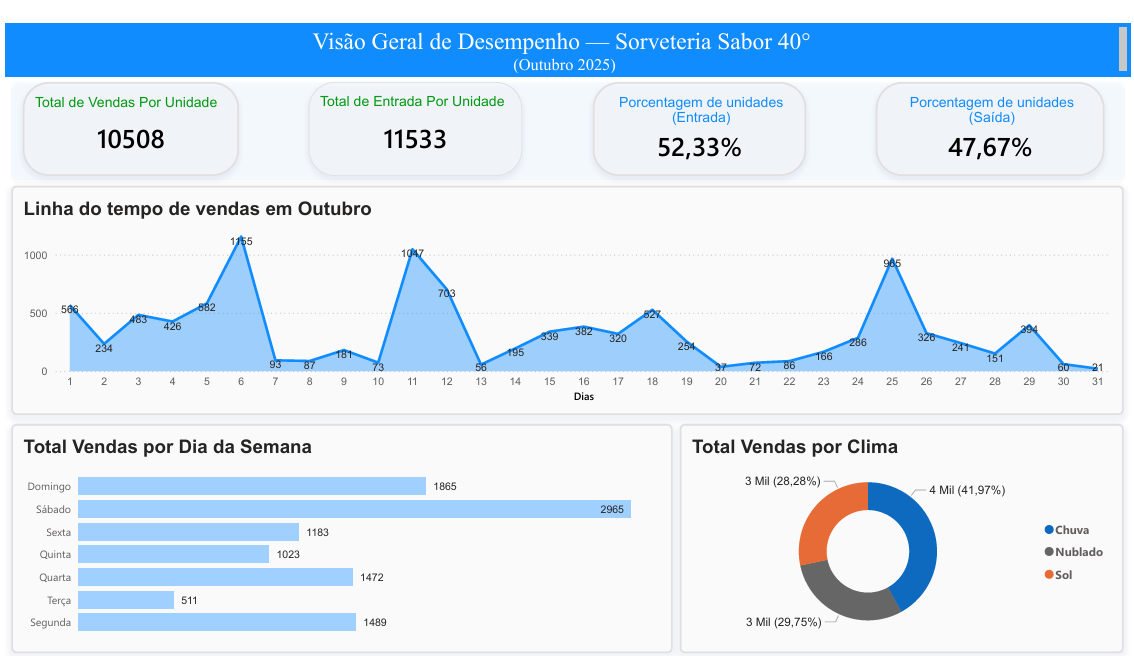

This screenshot's page, from the dashboard's own definition file:
{"tool":"powerbi","page":{"name":"Painel Geral","canvas":[1280,720],"ordinal":0},"visuals":[{"type":"shape","box":[0,60,1280,125],"z":0},{"type":"card","title":"Total de Entrada Por Unidade","fields":{"Values":["sorveteriasabor40.Total Entradas"]},"box":[345.3,67,243,107],"z":1000},{"type":"card","title":"Total de Vendas Por Unidade","fields":{"Values":["sorveteriasabor40.Total Vendas"]},"box":[20,67,246,107],"z":2000},{"type":"textbox","box":[0,0,1280,61],"z":3000},{"type":"card","title":"Porcentagem de unidades (Saída)","fields":{"Values":["sorveteriasabor40.Pct Vendas"]},"box":[990,67,260,107],"z":4000},{"type":"card","title":"Porcentagem de unidades (Entrada)","fields":{"Values":["sorveteriasabor40.Pct Entradas"]},"box":[667.7,67,243,107],"z":5000},{"type":"areaChart","title":"Linha do tempo de vendas em Outubro","fields":{"Y":["sorveteriasabor40.Total Vendas"],"Category":["sorveteriasabor40.data.Variation.Hierarquia de datas.Dia"]},"box":[7,185,1265,261],"z":6000},{"type":"donutChart","title":"Total Vendas por Clima","fields":{"Category":["sorveteriasabor40.clima_categoria"],"Y":["sorveteriasabor40.Total Vendas"]},"box":[767,456,505,261],"z":7000},{"type":"clusteredBarChart","title":"Total Vendas por Dia da Semana","fields":{"Category":["sorveteriasabor40.dia_semana"],"Y":["sorveteriasabor40.Total Vendas"]},"box":[7,456,752,261],"z":8000}]}

Visuals, with their boxes on the page's 1280x720 design canvas (x1, y1, x2, y2). These are canvas units, not pixel positions in the 1134x672 screenshot, which may show the page scaled, cropped or inside an application window:
shape: locate(0, 60, 1280, 185)
"Total de Entrada Por Unidade" card: locate(345, 67, 588, 174)
"Total de Vendas Por Unidade" card: locate(20, 67, 266, 174)
textbox: locate(0, 0, 1280, 61)
"Porcentagem de unidades (Saída)" card: locate(990, 67, 1250, 174)
"Porcentagem de unidades (Entrada)" card: locate(668, 67, 911, 174)
"Linha do tempo de vendas em Outubro" areaChart: locate(7, 185, 1272, 446)
"Total Vendas por Clima" donutChart: locate(767, 456, 1272, 717)
"Total Vendas por Dia da Semana" clusteredBarChart: locate(7, 456, 759, 717)
